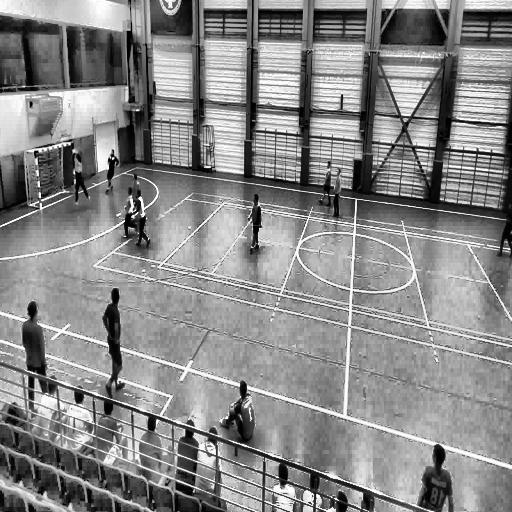ball: (71, 149, 76, 156)
player: (22, 302, 48, 411), (222, 379, 255, 454), (103, 286, 124, 394), (495, 193, 512, 257), (133, 191, 150, 249), (73, 155, 90, 206), (248, 193, 262, 252), (123, 188, 137, 241), (319, 158, 332, 206), (106, 150, 119, 194), (332, 168, 342, 218), (129, 174, 141, 203)
